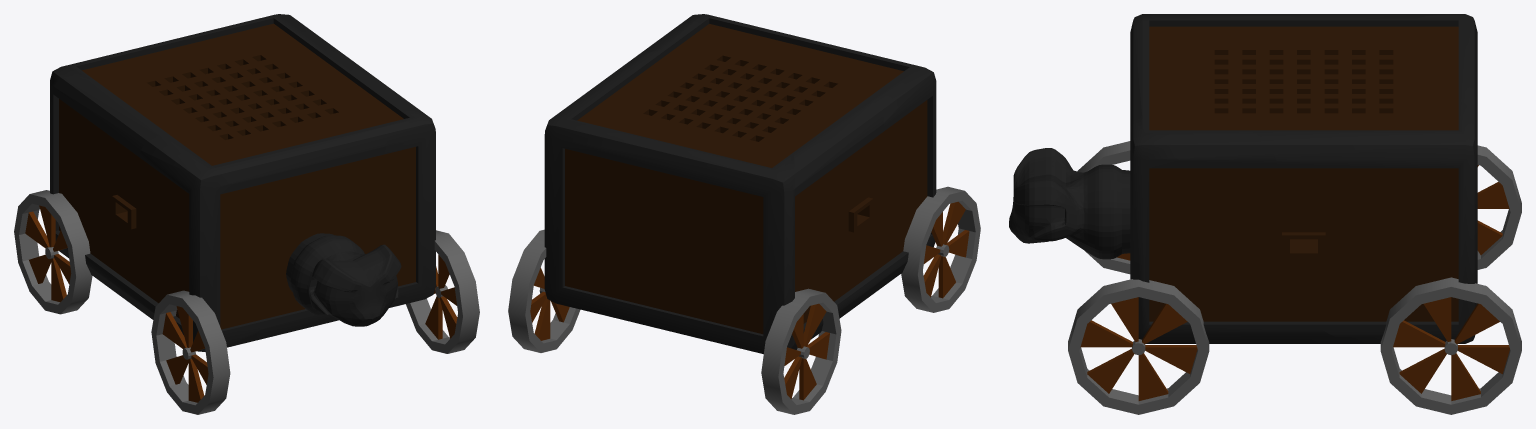
File: Ram_Head.2.fbx
3 renders of one model, left to right at view 1: azimuth 30°, elevation 25°; view 2: azimuth 150°, elevation 25°; view 3: azimuth 270°, elevation 25°, orthographic. The views are drawn at different scales.
Visible parts, largest first — view 1: Object004, Object002, Object006, Cylinder001, Object_Part_8, Cylinder002, Object_Part_3, Cylinder003, Cylinder004, Object_Part_6, Object_Part_10, Object_Part_2 (+8 smaller); view 2: Object010, Object004, Object006, Object_Part_2, Object_Part_4, Cylinder003, Cylinder002, Object_Part_6, Object_Part_8, Cylinder005, Group001, Group002 (+5 smaller); view 3: Object018, Object004, Object_Part_4, Cylinder001, Cylinder005, Cylinder004, Group003, Group004, Object_Part_10, Object_Part_1, Object_Part_5, Object_Part_2 (+6 smaller).
Boxes of the visible parts, x1=… form: Object004: x1=82, y1=23, x2=403, y2=165; Object002: x1=220, y1=147, x2=415, y2=329; Object006: x1=59, y1=99, x2=189, y2=318; Cylinder001: x1=286, y1=233, x2=401, y2=326; Object_Part_8: x1=139, y1=133, x2=262, y2=351; Cylinder002: x1=151, y1=290, x2=230, y2=414; Object_Part_3: x1=215, y1=124, x2=388, y2=190; Cylinder003: x1=14, y1=190, x2=92, y2=314; Cylinder004: x1=406, y1=230, x2=479, y2=353; Object_Part_6: x1=54, y1=77, x2=166, y2=156; Object_Part_10: x1=383, y1=109, x2=435, y2=249; Object_Part_2: x1=50, y1=27, x2=222, y2=235; Object010: x1=565, y1=148, x2=763, y2=334; Object004: x1=577, y1=24, x2=903, y2=167; Object006: x1=795, y1=100, x2=927, y2=323; Object_Part_2: x1=605, y1=132, x2=796, y2=352; Object_Part_4: x1=544, y1=51, x2=664, y2=315; Cylinder003: x1=761, y1=288, x2=841, y2=414; Cylinder002: x1=901, y1=186, x2=980, y2=312; Object_Part_6: x1=794, y1=100, x2=883, y2=194; Object_Part_8: x1=865, y1=64, x2=936, y2=247; Cylinder005: x1=508, y1=229, x2=580, y2=352; Group001: x1=923, y1=201, x2=969, y2=298; Group002: x1=784, y1=303, x2=829, y2=400; Object018: x1=1149, y1=168, x2=1458, y2=321; Object004: x1=1149, y1=26, x2=1458, y2=130; Object_Part_4: x1=1250, y1=102, x2=1477, y2=343; Cylinder001: x1=1009, y1=148, x2=1130, y2=259; Cylinder005: x1=1380, y1=277, x2=1521, y2=414; Cylinder004: x1=1068, y1=279, x2=1209, y2=414; Group003: x1=1080, y1=297, x2=1197, y2=400; Group004: x1=1393, y1=297, x2=1509, y2=400; Object_Part_10: x1=1130, y1=115, x2=1183, y2=282; Object_Part_1: x1=1138, y1=297, x2=1349, y2=343; Object_Part_5: x1=1169, y1=130, x2=1319, y2=327; Object_Part_2: x1=1408, y1=14, x2=1477, y2=121.
Size of the model in its own units: 145 by 121 by 212.
